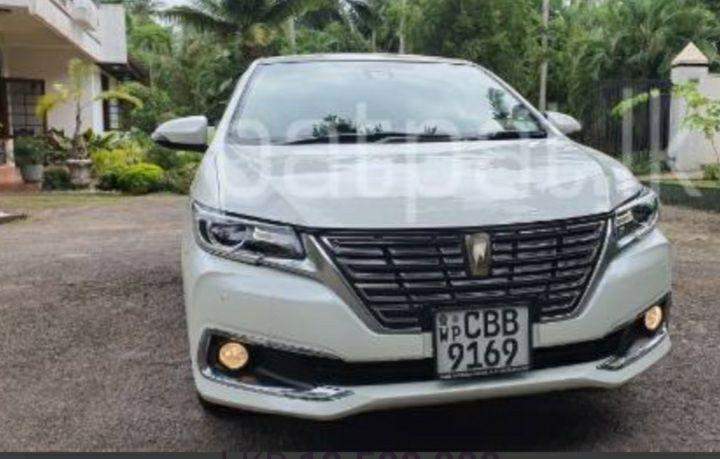license-plate: (432, 302, 534, 372)
